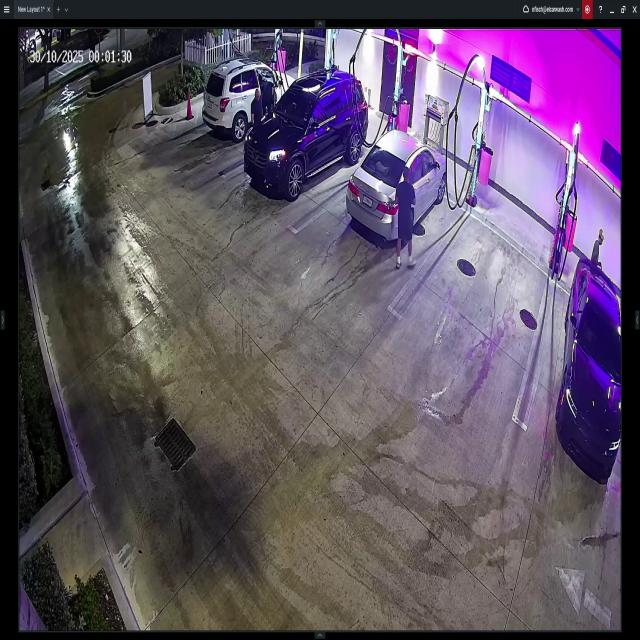Car: (246, 66, 368, 205), (555, 258, 629, 481), (346, 114, 445, 245), (198, 48, 312, 140)
